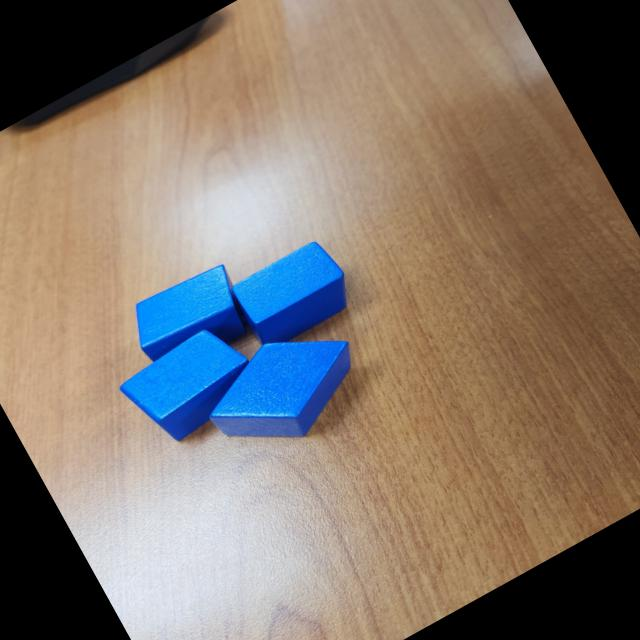blue: (190, 306, 380, 472), (113, 316, 269, 456), (120, 255, 262, 384), (225, 234, 362, 357)
